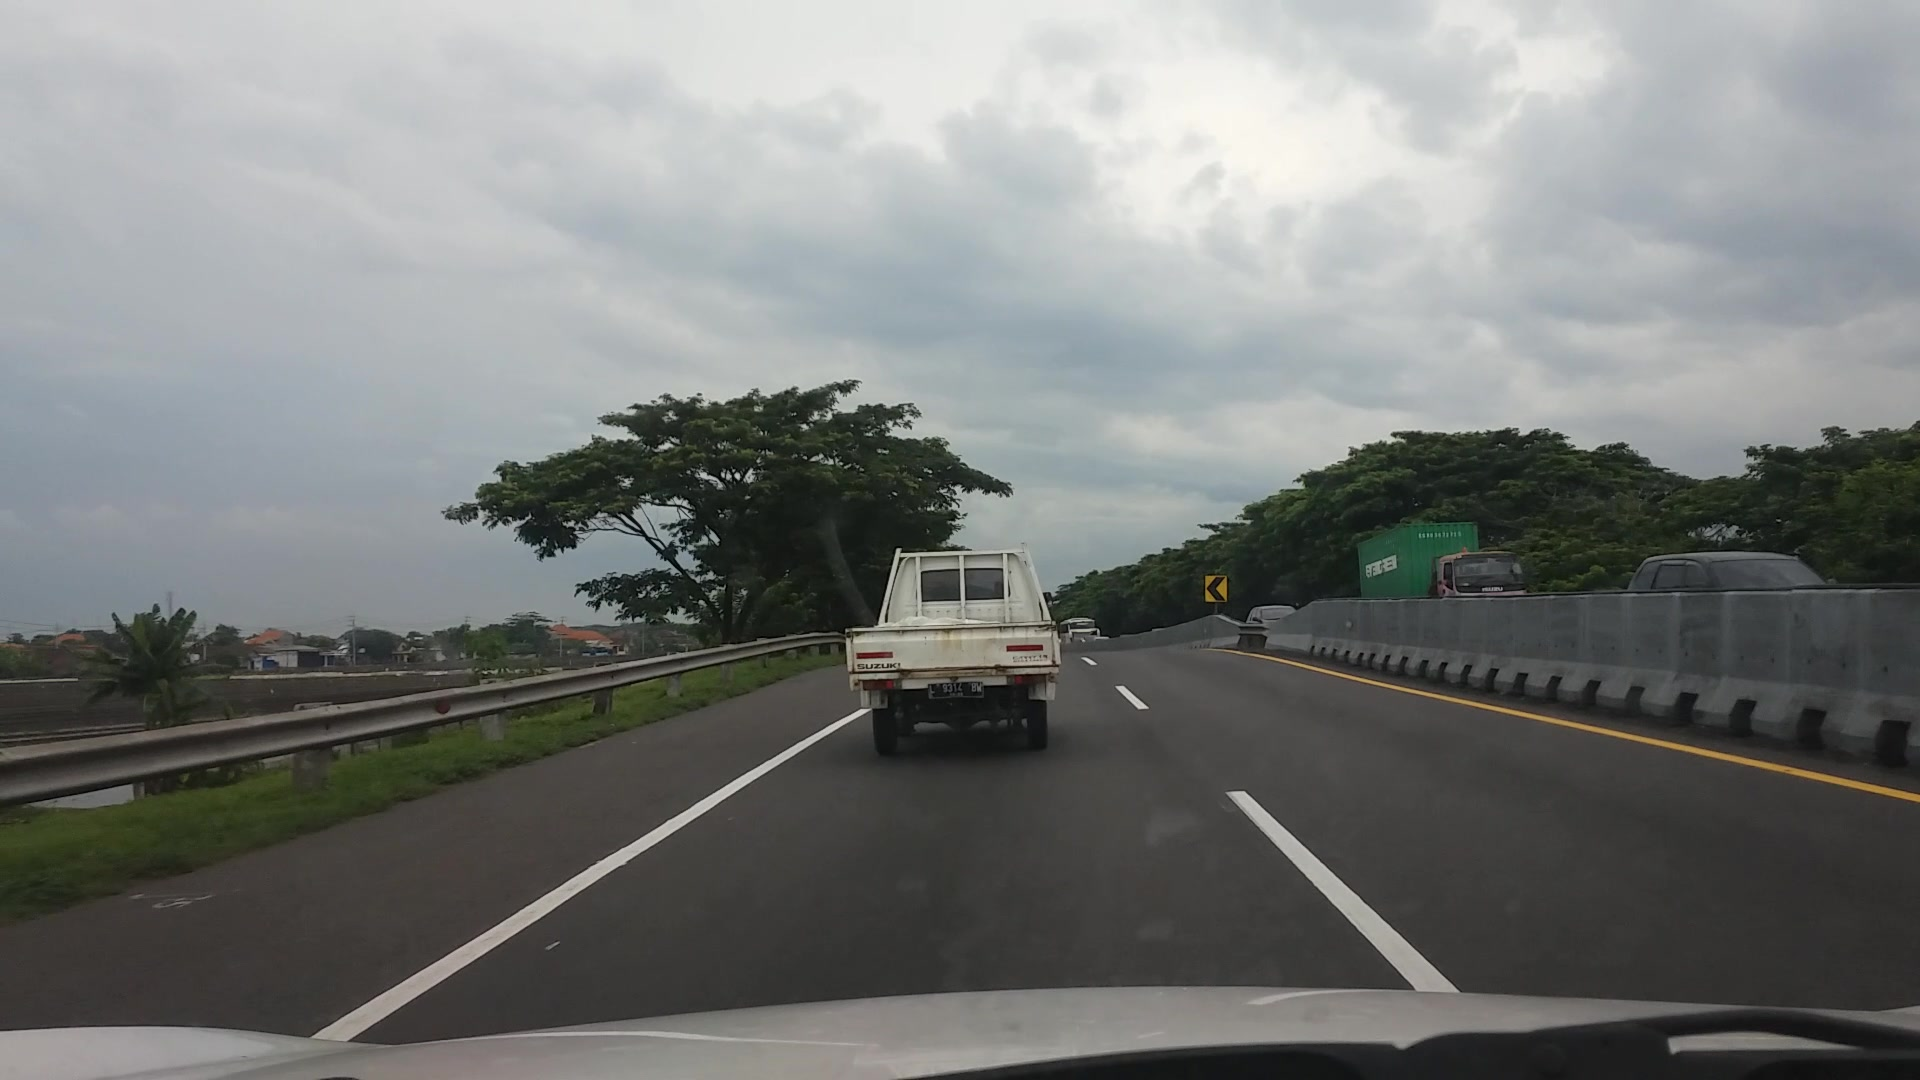plate_positive: (928, 680, 984, 699)
